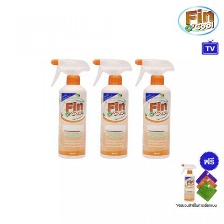cleaning_solution: (45, 54, 92, 161), (87, 56, 133, 161), (131, 55, 175, 162), (179, 161, 198, 203)
